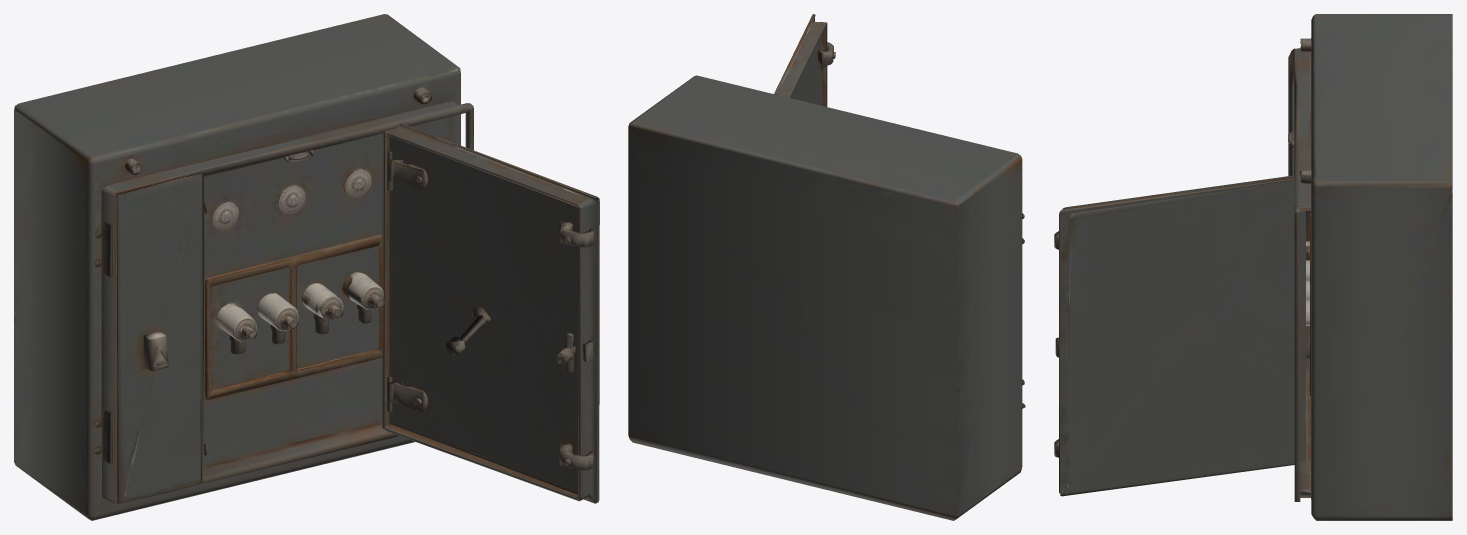
File: fuse_box.glb
3 views of the same model, side by side, from view 1: azimuth 30°, elevation 25°; view 2: azimuth 150°, elevation 25°; view 3: azimuth 270°, elevation 25° (orthographic). The views are drawn at different scales.
Size of the model in its own units: 0.9497 by 0.8819 by 0.9351.
Materials: 1 (1 with a texture image).
